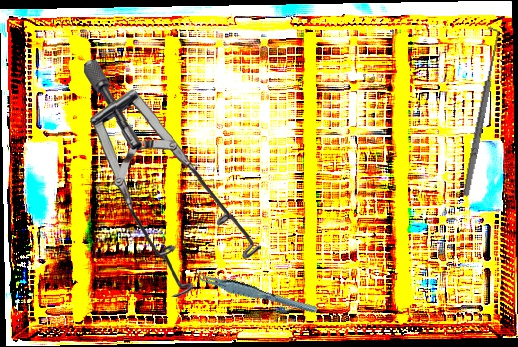Hook Surgical: (455, 26, 504, 198)
Speculum: (80, 59, 265, 299)
Tissue Forceps: (191, 256, 319, 328)
